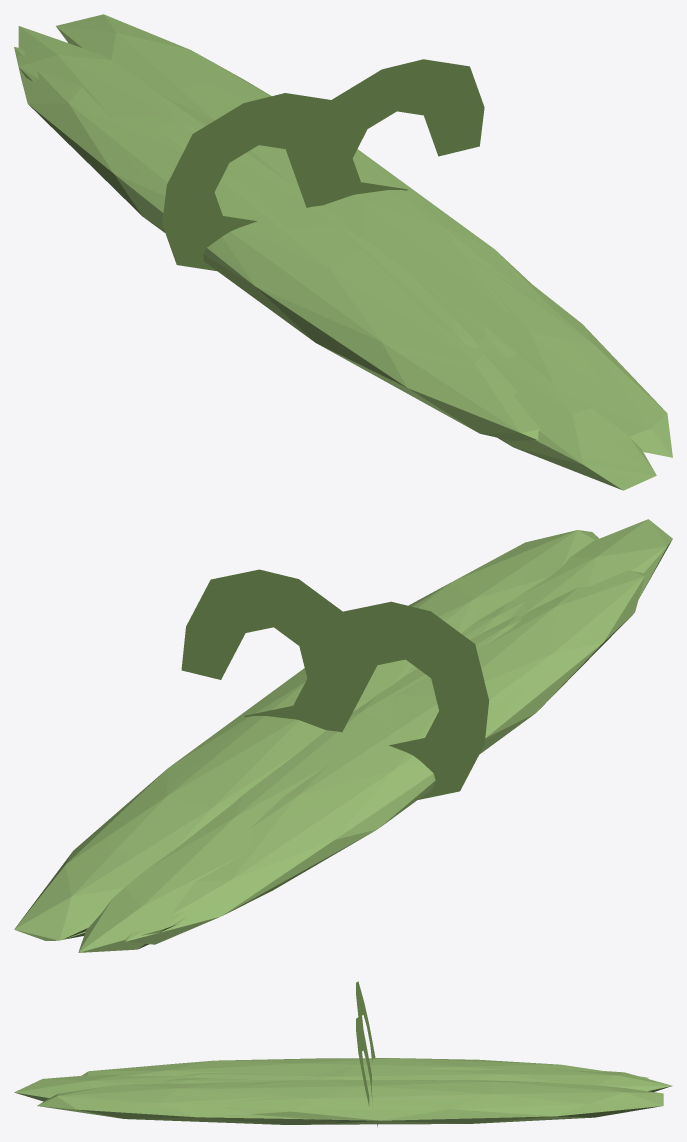
The model's file is mickelopteris-cordata.glb.
3 renders of one model, top to bottom at view 1: azimuth 30°, elevation 25°; view 2: azimuth 150°, elevation 25°; view 3: azimuth 270°, elevation 25°, orthographic. The views are drawn at different scales.
Parts seen in each view (by area): view 1: frond3, frond0, frond4, frond1, fiddle-1, fiddle1, frond2, frond5; view 2: frond3, frond0, frond4, fiddle1, fiddle-1, frond1, frond2, frond5; view 3: frond0, frond1, frond3, frond4, frond2, fiddle-1, fiddle1, frond5.
Boxes of the visible parts, x1,y1,x2,y2 form: frond3: (14,47,540,440); frond0: (56,14,547,313); frond4: (18,26,479,348); frond1: (426,255,672,457); fiddle-1: (162,93,344,270); fiddle1: (300,59,484,207); frond2: (476,342,656,490); frond5: (414,276,516,357); frond3: (125,570,644,944); frond0: (14,616,445,940); frond4: (78,615,522,952); fiddle1: (181,569,357,732); fiddle-1: (320,601,489,799); frond1: (408,530,598,633); frond2: (511,519,672,618); frond5: (461,601,523,639); frond0: (207,1079,663,1124); frond1: (37,1081,340,1124); frond3: (81,1058,648,1078); frond4: (181,1065,672,1091); frond2: (14,1074,186,1101); fiddle-1: (356,981,375,1062); fiddle1: (356,1017,377,1127); frond5: (163,1077,271,1083).
Size of the model in its own units: 0.184 by 0.1057 by 0.6197.
